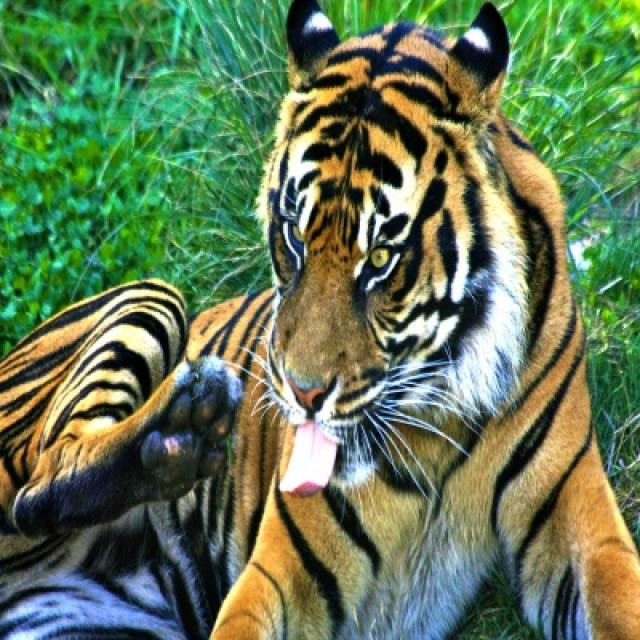Tiger: (0, 0, 638, 638)
